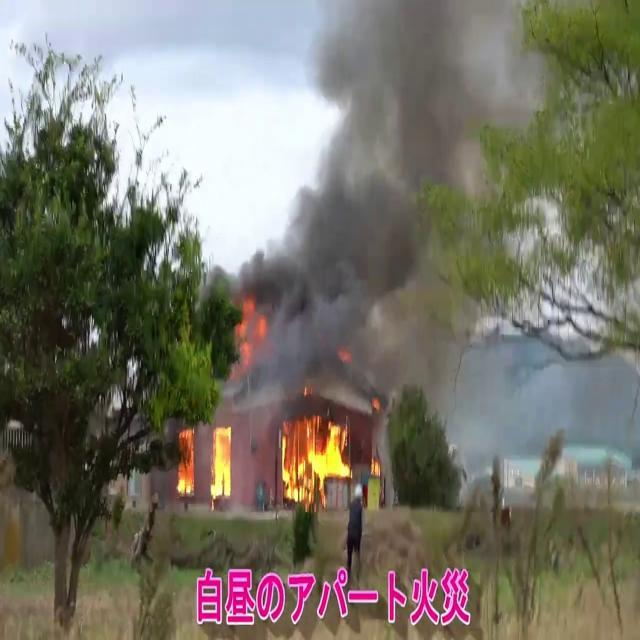Fire: (278, 406, 354, 502), (210, 422, 234, 502)
Smoke: (241, 0, 574, 401)
